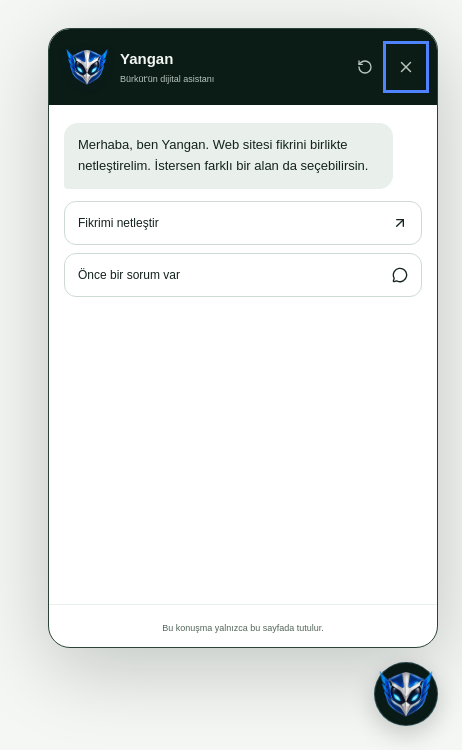
başka hizmet seçildiğinde eski amaca devam etmez; yeni konuşma sayfanın bağlamına döner
This screenshot has width=462, height=750.
Click the button "Fikrimi netleştir": click(118, 223) x1=64 y1=201 x2=422 y2=245
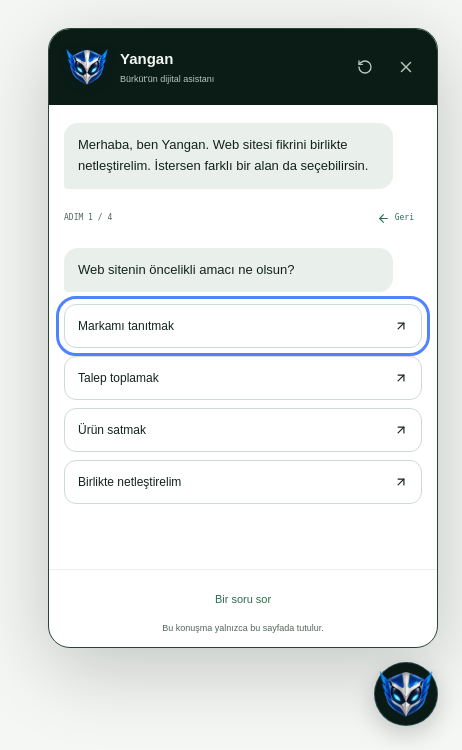
Click the button "Geri": click(395, 218) x1=369 y1=204 x2=422 y2=233
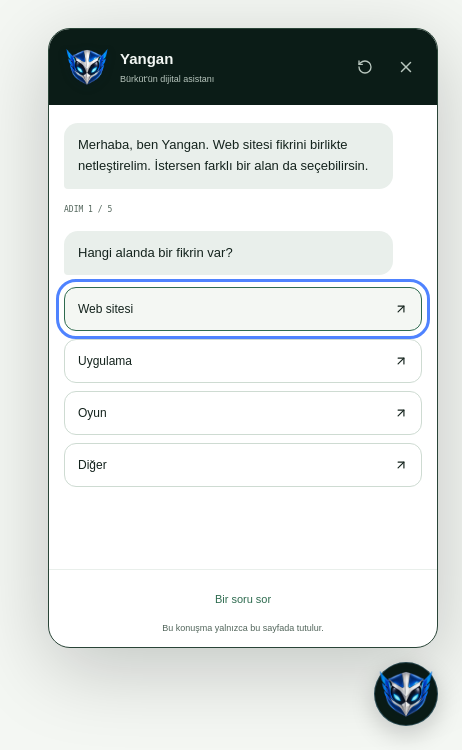
Click the button "Uygulama": click(105, 361) x1=64 y1=339 x2=422 y2=383
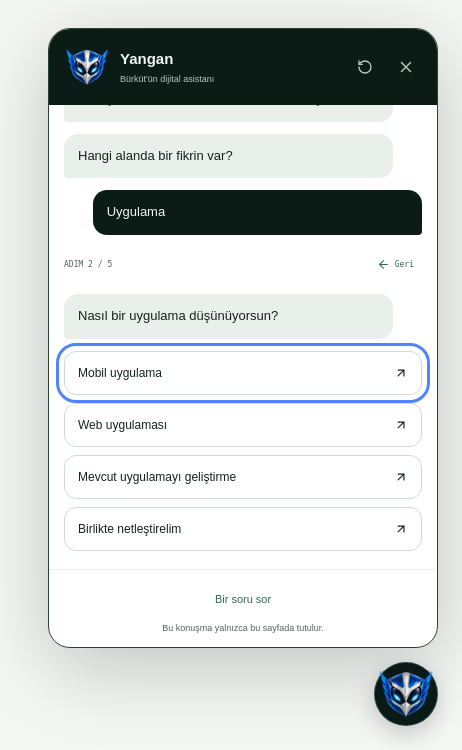
Expected: the button "Ürün satmak" is not shown
Result: the text "Nasıl bir uygulama düşünüyorsun?" is shown at x1=64 y1=294 x2=393 y2=339
Click the button named "Yeni konuşma": click(365, 67) x1=350 y1=49 x2=380 y2=85
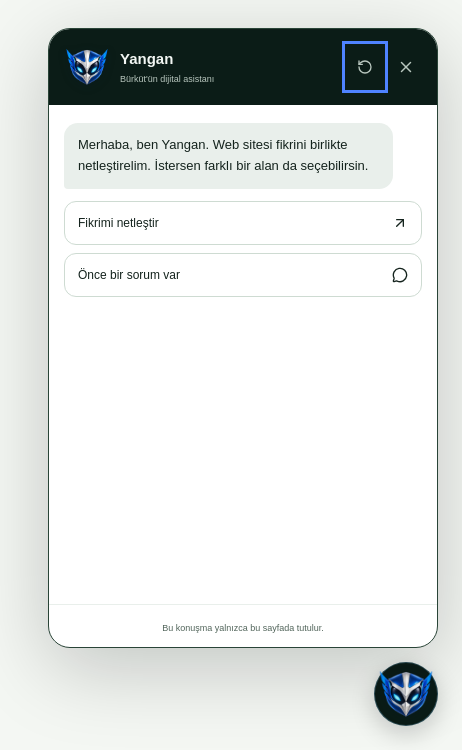
Click the button "Fikrimi netleştir": click(118, 223) x1=64 y1=201 x2=422 y2=245
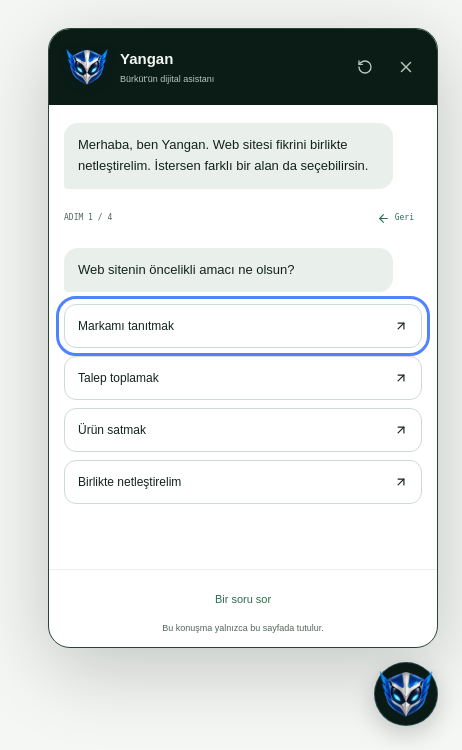
Result: the text "Web sitenin öncelikli amacı ne olsun?" is shown at x1=64 y1=248 x2=393 y2=292
